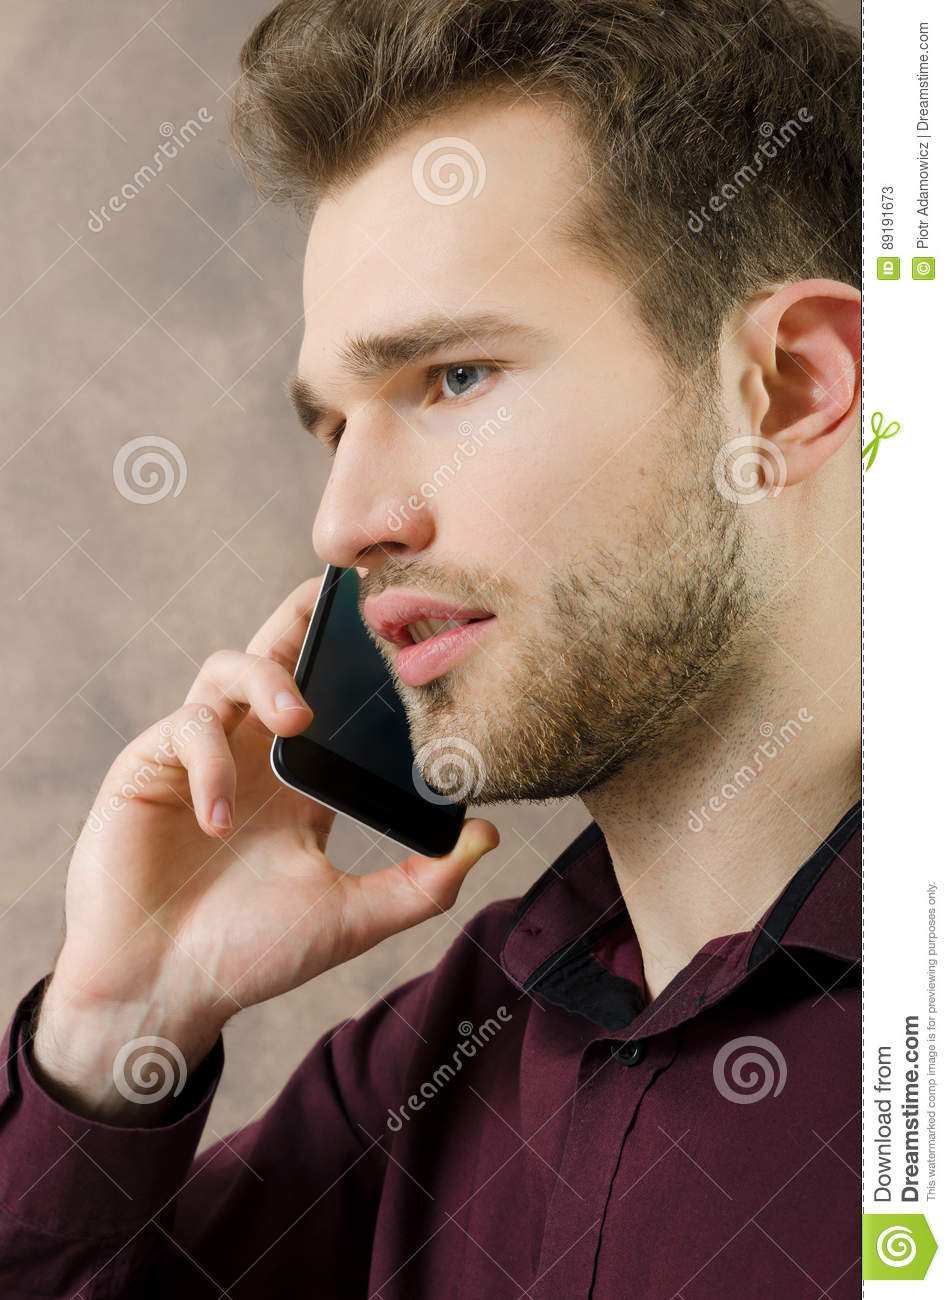phone: (265, 572, 476, 865)
talk: (39, 304, 595, 1024)
